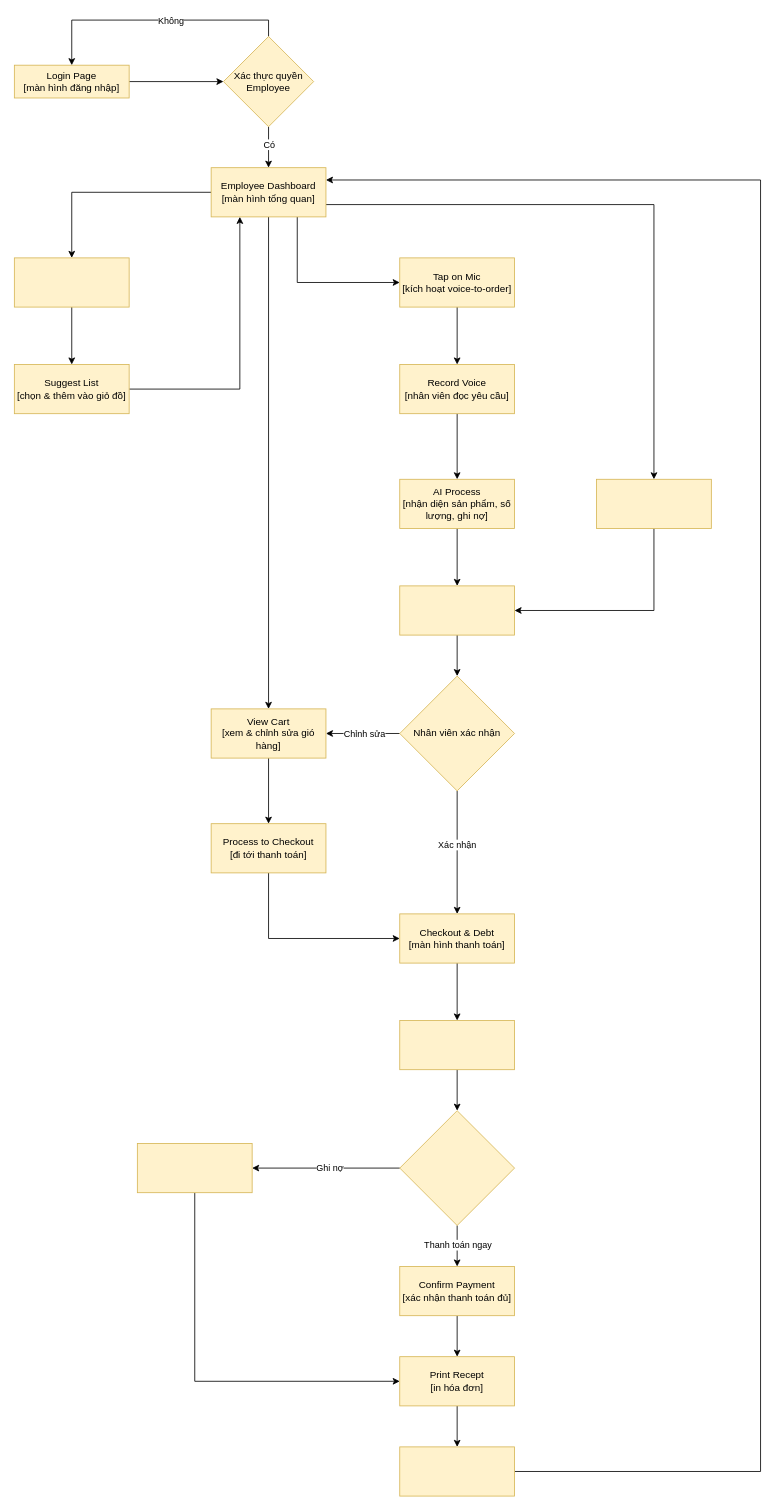
Some shapes in this 781 by 1510 pixel diagram are drawn without their labels. Here are the shapes that lost their labels. From the top down, the centre of each, then its label:
At [71,282]: "Search Product [nhập tên/mã/danh mục]".
At [653,503]: "Real-time Notification [đơn nháp mới từ xa]".
At [457,610]: "Draft Order [đơn hàng nháp từ AI]".
At [457,1045]: "Select Customer [chọn khách hàng hoặc khách lẻ]".
At [194,1168]: "Record Debt [Cập nhập công nợ khách]".
At [457,1167]: "Thanh toán hay Ghi nợ".
At [457,1471]: "Send to Printer [sử dụng Bluetooh/LAN]".
